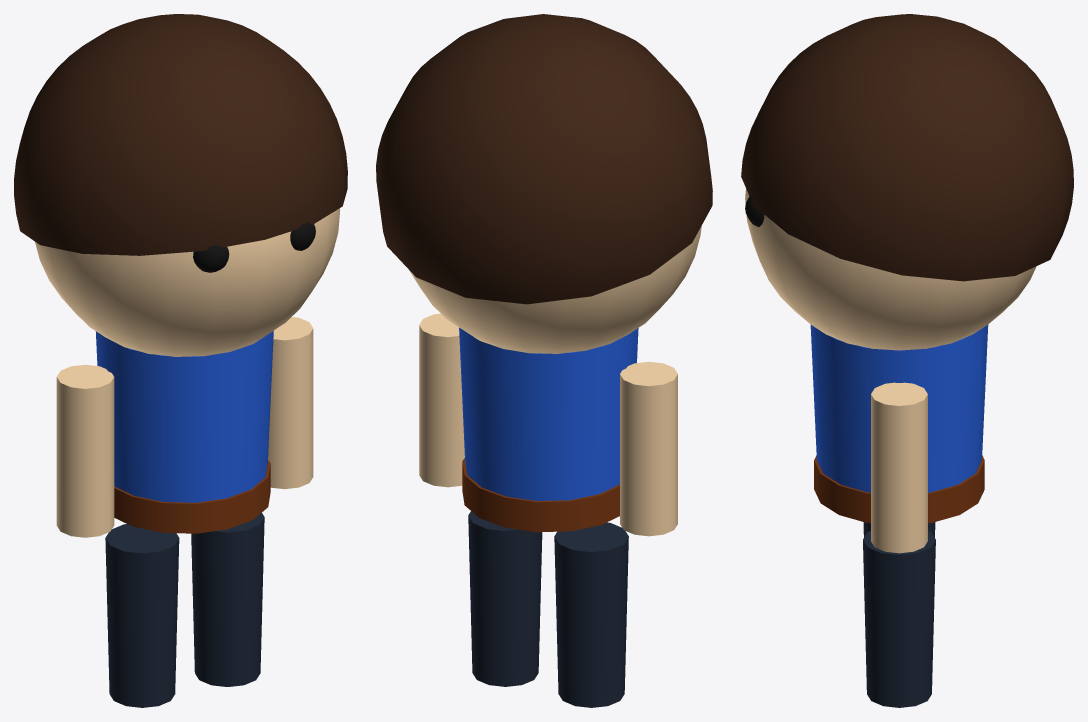
File: avatar_chibi.glb
3 views of the same model, side by side, from view 1: azimuth 30°, elevation 25°; view 2: azimuth 150°, elevation 25°; view 3: azimuth 270°, elevation 25° (orthographic).
Visible parts, largest first — view 1: ChibiHair, ChibiHead, Torso, Leg_0, Leg_1, Arm_0, Arm_1, Avatar_chibi, Eye_0, Eye_1; view 2: ChibiHair, Torso, Leg_0, ChibiHead, Leg_1, Arm_0, Arm_1, Avatar_chibi; view 3: ChibiHair, Torso, ChibiHead, Leg_1, Arm_1, Avatar_chibi.
Part boxes in pixels (x1,y1,x2,y2): ChibiHair: (14, 14, 347, 255); ChibiHead: (35, 208, 340, 356); Torso: (95, 331, 273, 502); Leg_0: (105, 524, 179, 707); Leg_1: (191, 513, 264, 686); Arm_0: (56, 364, 114, 537); Arm_1: (268, 317, 313, 489); Avatar_chibi: (114, 460, 270, 533); Eye_0: (193, 245, 229, 272); Eye_1: (290, 222, 315, 250); ChibiHair: (376, 14, 712, 304); Torso: (459, 327, 638, 500); Leg_0: (554, 522, 628, 707); ChibiHead: (409, 226, 701, 353); Leg_1: (468, 511, 542, 686); Arm_0: (620, 361, 677, 536); Arm_1: (419, 313, 464, 487); Avatar_chibi: (462, 458, 619, 532); ChibiHair: (741, 14, 1073, 281); Torso: (810, 324, 988, 492); ChibiHead: (745, 188, 1036, 350); Leg_1: (863, 530, 935, 707); Arm_1: (871, 382, 927, 553); Avatar_chibi: (814, 455, 984, 523).
Size of the model in its own units: 0.8192 by 1.75 by 0.8194.
